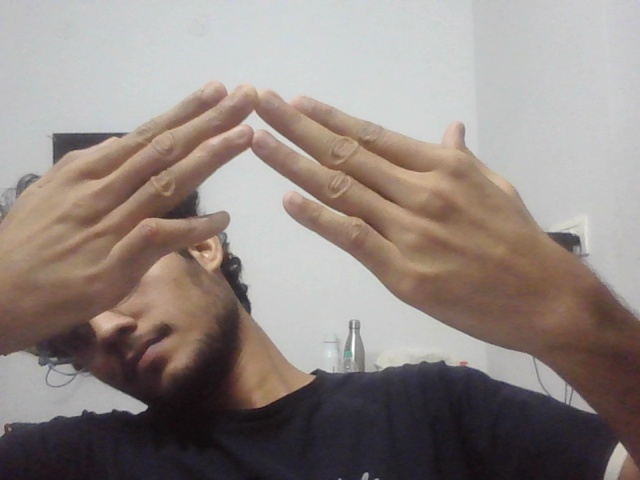Thanks: (2, 42, 588, 392)
